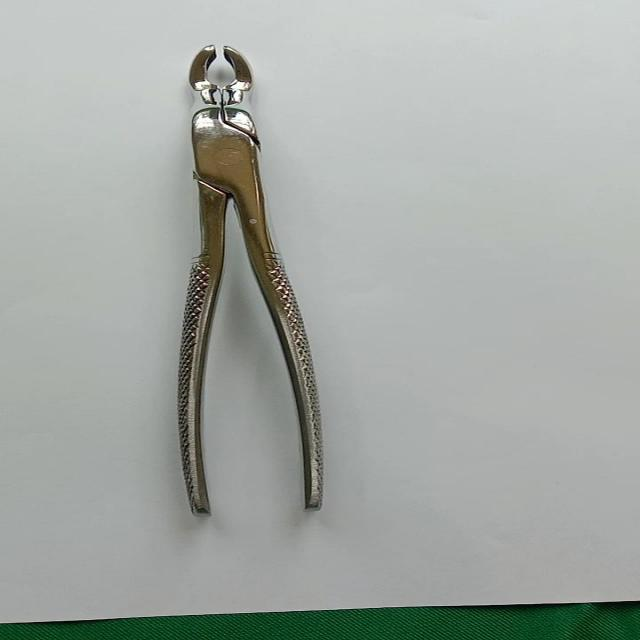BayonetForcep: (178, 38, 329, 522)
